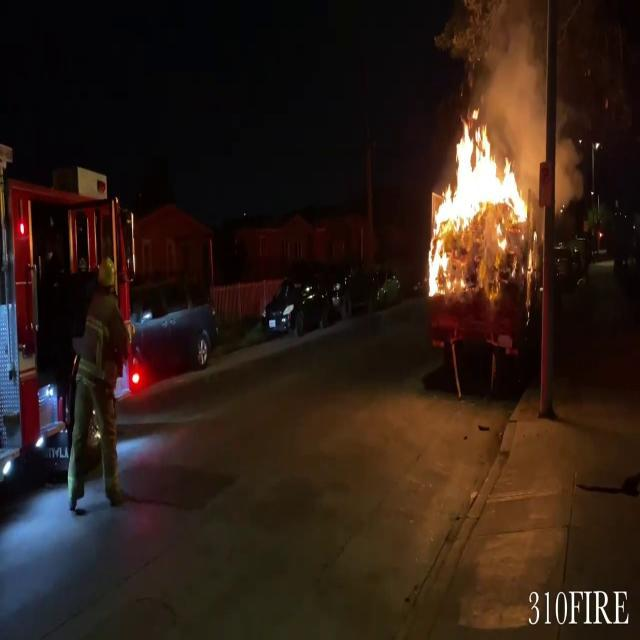Fire: (423, 108, 535, 304)
Smoke: (485, 0, 575, 216)
